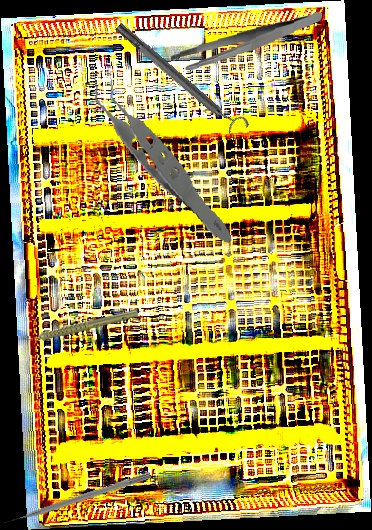Dressing Forceps: (168, 12, 325, 71)
Fixation Ring: (110, 15, 252, 143)
Handpiece: (20, 309, 139, 342)
Pusher: (1, 470, 152, 527)
Tissue Forceps: (88, 50, 235, 259)
